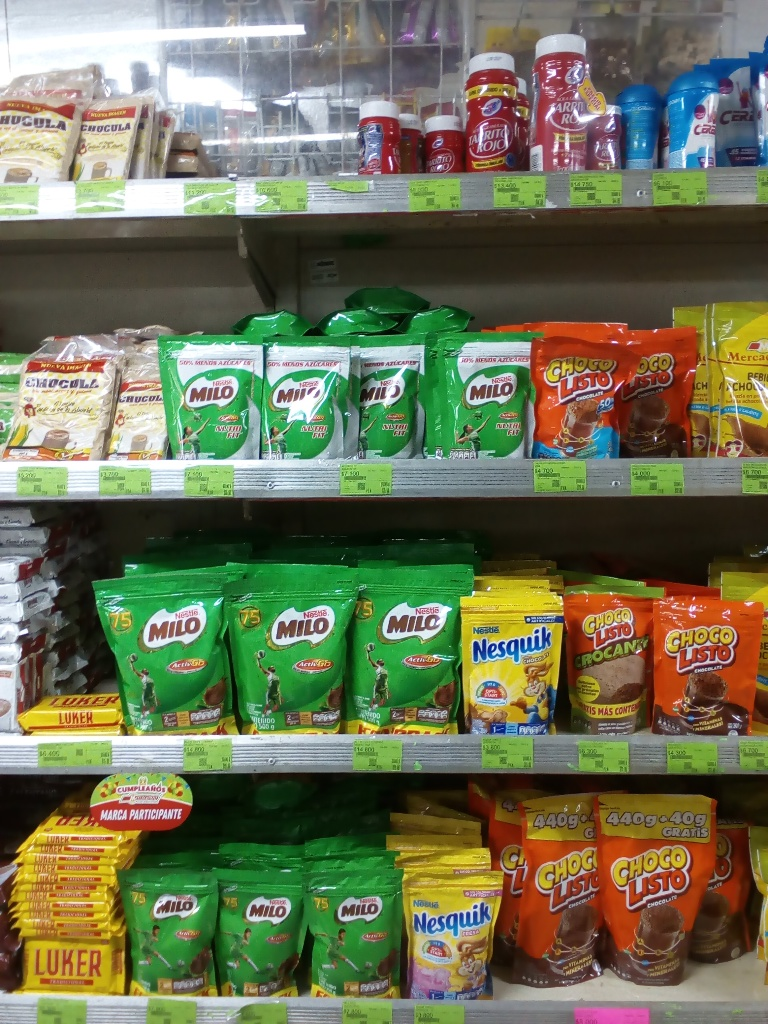COL0170103DYP20000: (654, 578, 762, 734)
COL0170104DYP20000: (525, 321, 626, 458)
COL0170203DYP25000: (122, 856, 213, 998)
COL0170203DYP50000: (86, 553, 225, 735)
COL0170205DYP20000: (163, 336, 258, 458)
COL0170303DYP20000: (458, 590, 562, 734)
COL0170305DYP20000: (405, 857, 496, 1000)
